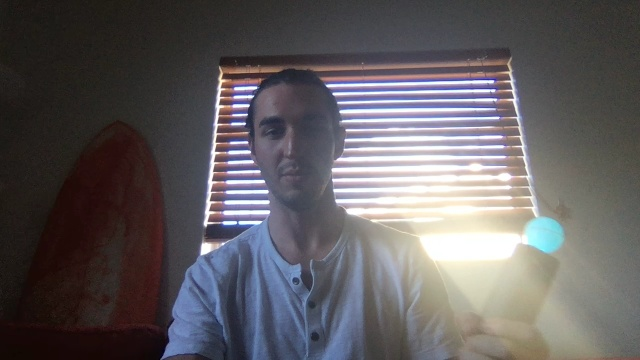wand: (526, 218, 565, 253)
